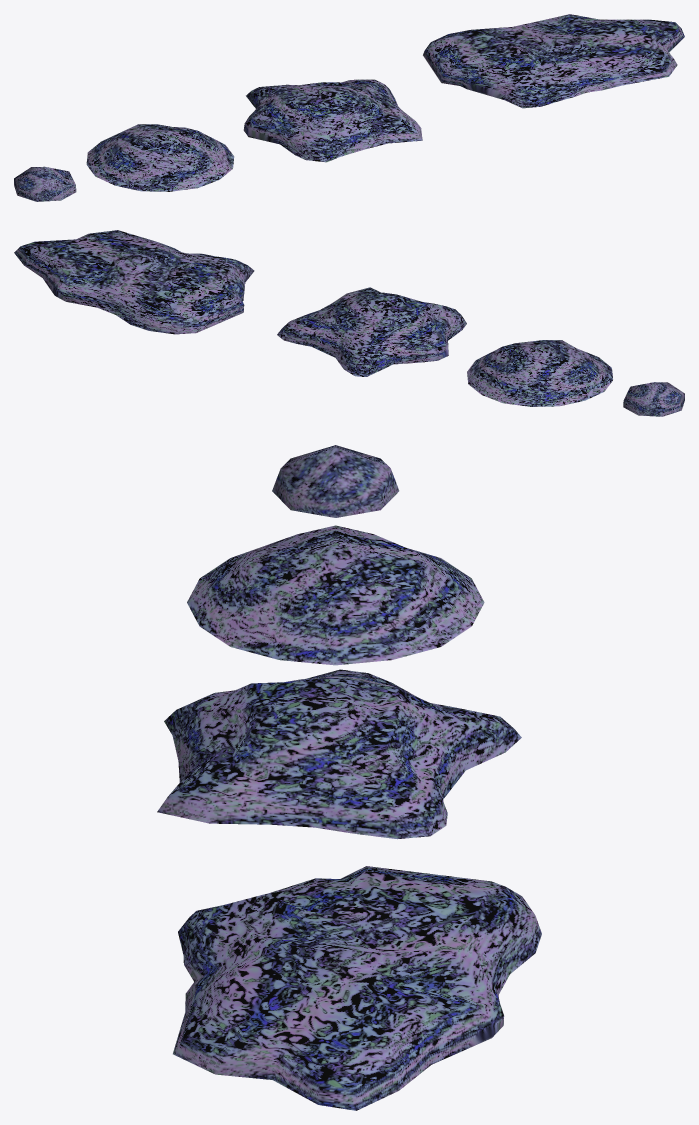
File: WaterDroplets.fbx
3 views of the same model, one above another, from view 1: azimuth 30°, elevation 25°; view 2: azimuth 150°, elevation 25°; view 3: azimuth 270°, elevation 25° (orthographic). The views are drawn at different scales.
Visible parts, largest first — view 1: WaterDroplet_4, WaterDroplet_3, WaterDroplet_1, WaterDroplet_2; view 2: WaterDroplet_4, WaterDroplet_3, WaterDroplet_1, WaterDroplet_2; view 3: WaterDroplet_4, WaterDroplet_3, WaterDroplet_1, WaterDroplet_2.
Boxes of the visible parts, left/top/right/bottom form: WaterDroplet_4: left=423, top=14, right=684, bottom=108; WaterDroplet_3: left=243, top=79, right=422, bottom=162; WaterDroplet_1: left=86, top=124, right=234, bottom=191; WaterDroplet_2: left=14, top=166, right=76, bottom=201; WaterDroplet_4: left=14, top=230, right=254, bottom=334; WaterDroplet_3: left=277, top=287, right=466, bottom=376; WaterDroplet_1: left=467, top=340, right=612, bottom=406; WaterDroplet_2: left=623, top=382, right=684, bottom=416; WaterDroplet_4: left=173, top=866, right=541, bottom=1110; WaterDroplet_3: left=157, top=669, right=521, bottom=839; WaterDroplet_1: left=187, top=525, right=484, bottom=665; WaterDroplet_2: left=272, top=445, right=399, bottom=517.
Size of the model in its own units: 2.95 by 0.1324 by 0.7415.
